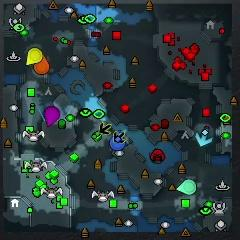p1: (110, 134, 127, 151)
p2: (176, 180, 196, 194)
p3: (44, 106, 60, 127)
p4: (26, 47, 43, 65)
p5: (34, 56, 49, 74)
x2Clone: (113, 130, 127, 144), (98, 121, 111, 135)
x3: (195, 128, 212, 147)
